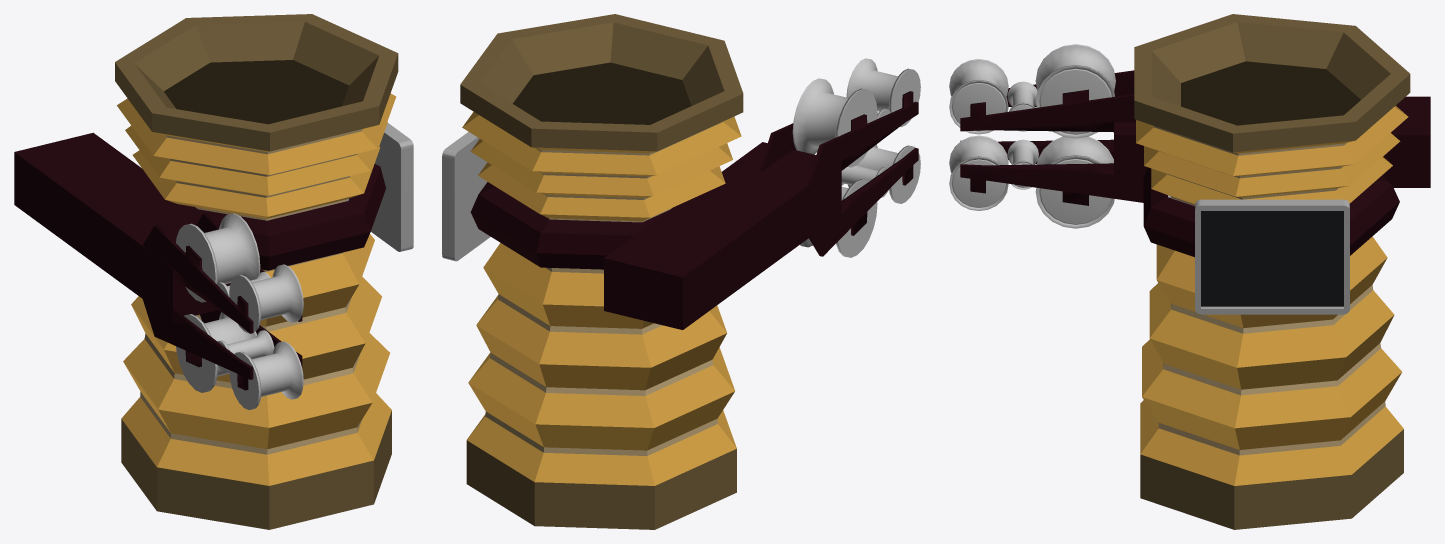
File: PlayerAnimation_Bottom_Place.fbx
The picture shows the model from 3 angles, left to right: view 1: azimuth 30°, elevation 25°; view 2: azimuth 150°, elevation 25°; view 3: azimuth 270°, elevation 25°; orthographic projection.
Parts seen in each view (by area): view 1: Original; view 2: Original; view 3: Original.
Boxes of the visible parts, box(x1,y1,x2,y2) form: Original: box(14, 14, 413, 529); Original: box(442, 14, 920, 529); Original: box(949, 14, 1430, 529).
Size of the model in its own units: 226 by 303 by 331.
